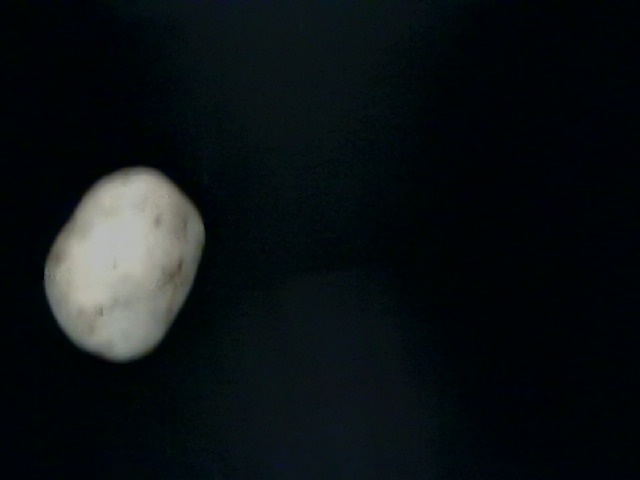QTLJ: (11, 220, 222, 480)
